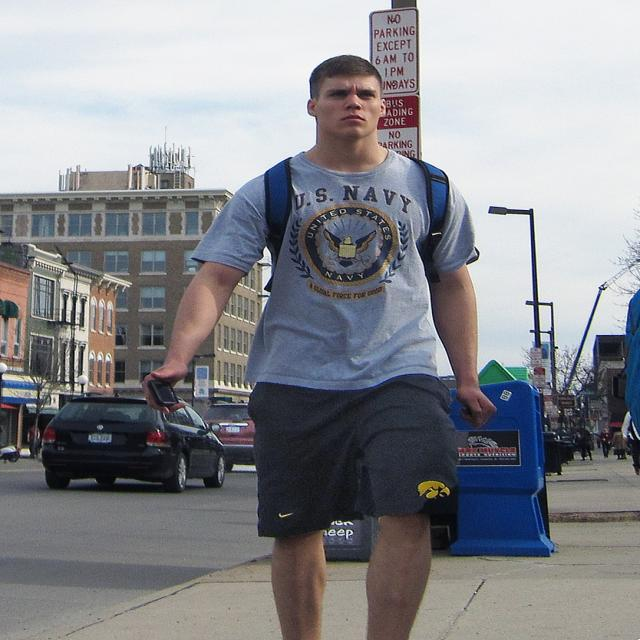car: (35, 394, 229, 495)
